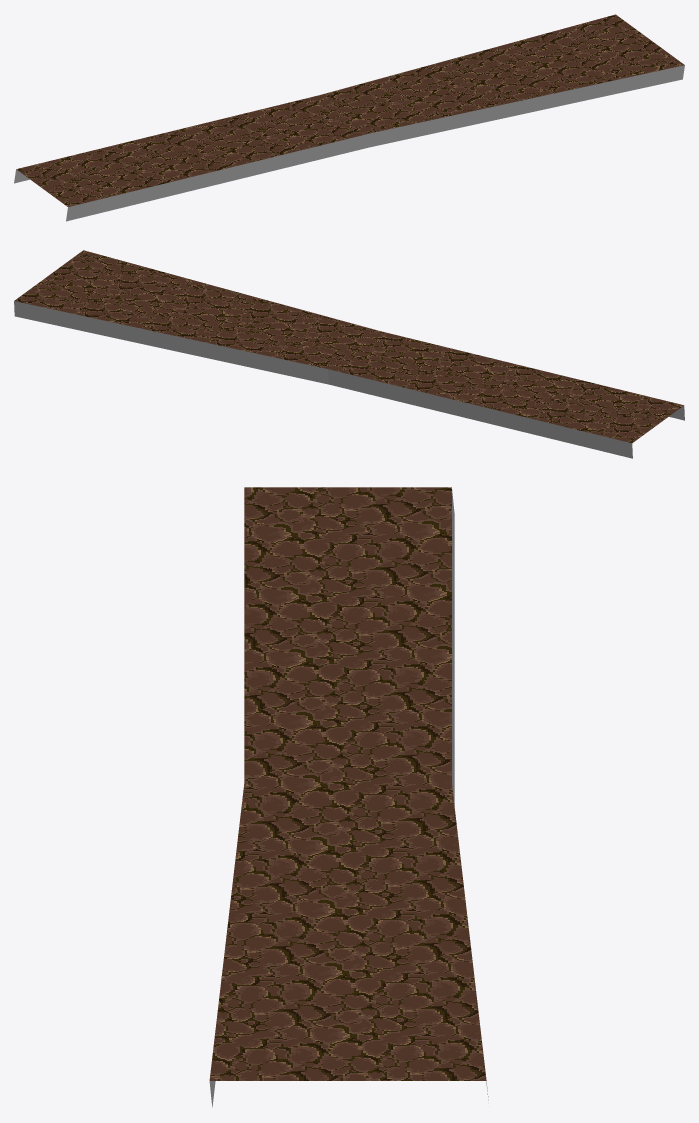
The model's file is Room6-Water.fbx.
3 renders of one model, top to bottom at view 1: azimuth 30°, elevation 25°; view 2: azimuth 150°, elevation 25°; view 3: azimuth 270°, elevation 25°, orthographic. The views are drawn at different scales.
Parts seen in each view (by area): view 1: polySurface339; view 2: polySurface339; view 3: polySurface339.
Part boxes in pixels (x1=…): polySurface339: x1=14, y1=14, x2=684, y2=221; polySurface339: x1=14, y1=250, x2=684, y2=458; polySurface339: x1=209, y1=487, x2=488, y2=1107.
Size of the model in its own units: 12.67 by 0.2885 by 2.52.
